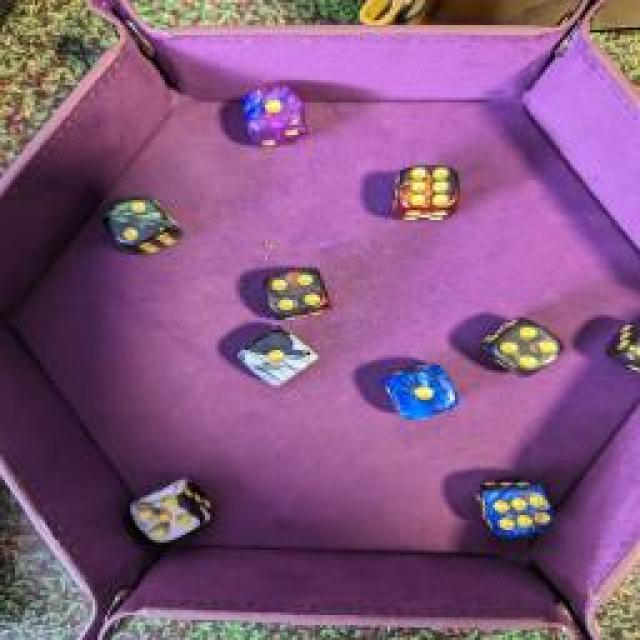dice_1: (378, 362, 464, 426), (232, 81, 310, 151), (230, 328, 320, 388)
dice_2: (100, 192, 185, 252)
dice_4: (482, 318, 566, 378), (256, 264, 334, 321)
dice_5: (124, 478, 224, 548)
dice_6: (472, 478, 562, 542), (384, 162, 468, 222)
